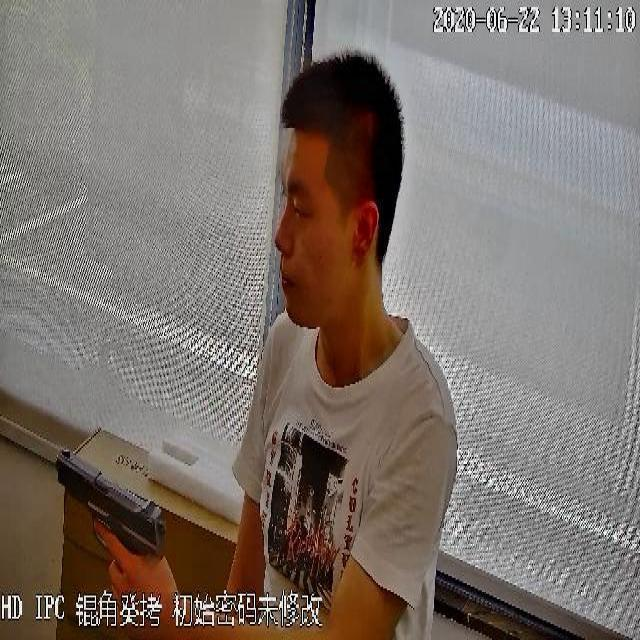pistol: (55, 448, 165, 559)
